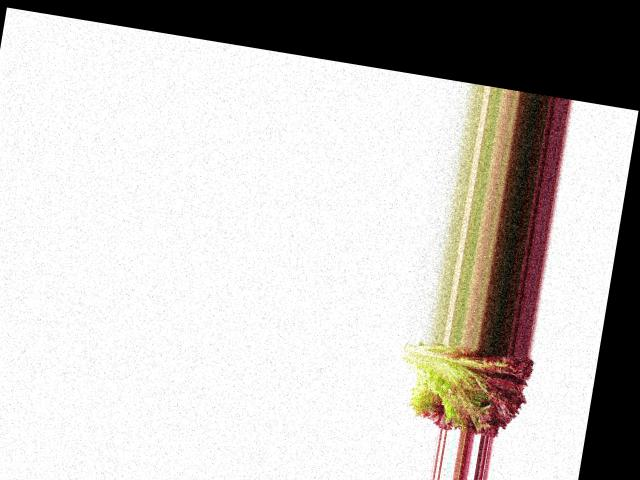lettuce: (387, 336, 542, 441)
